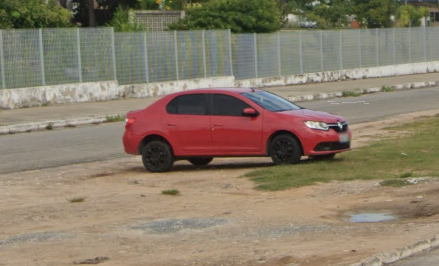car: (120, 80, 354, 178)
